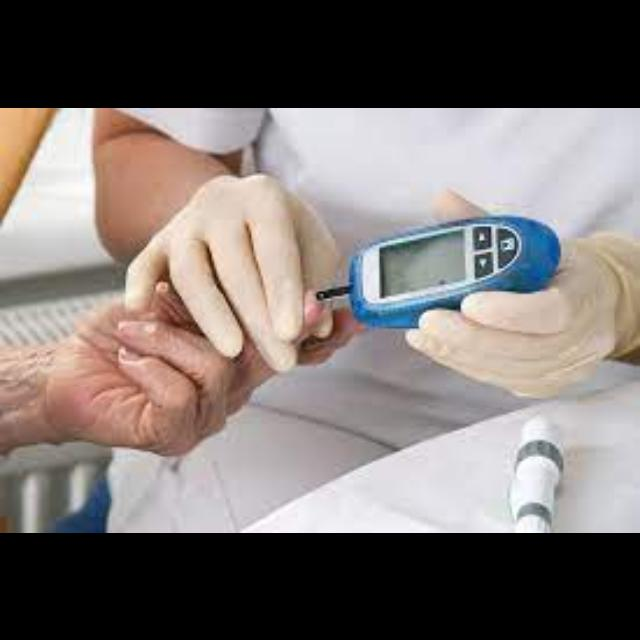Glucose-Meter: (319, 214, 559, 326)
